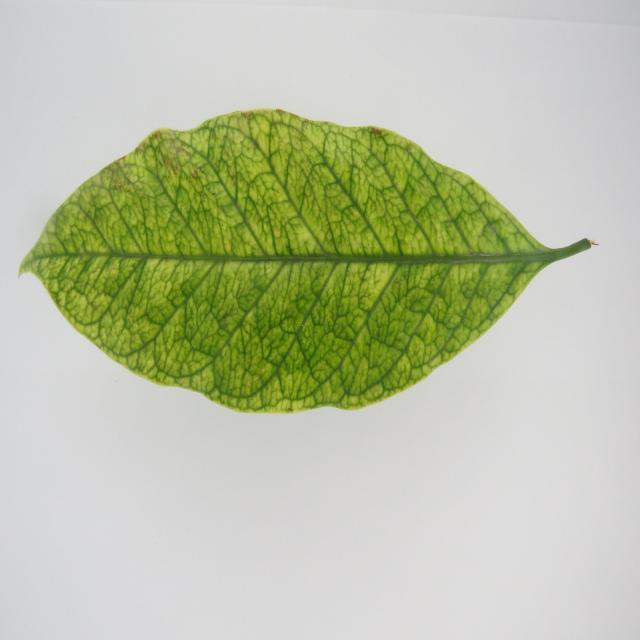DeficienciaNutricional-Hierro: (20, 108, 558, 412)
